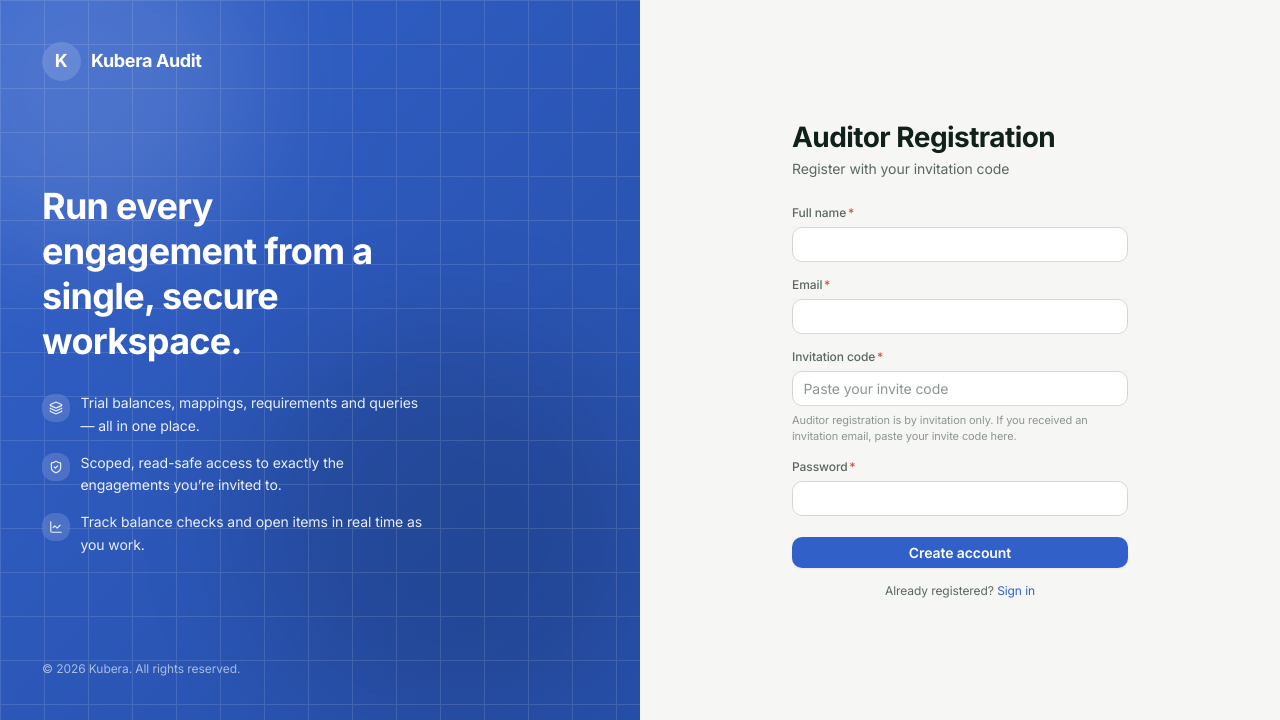
AuditorRegister Rate Limit › displays fallback message if Retry-After is missing on 429
This screenshot has width=1280, height=720.
Type "Auditor" into the field labelled "Full name*".
click(960, 244); type("Auditor")  # box [792,227,1128,262]
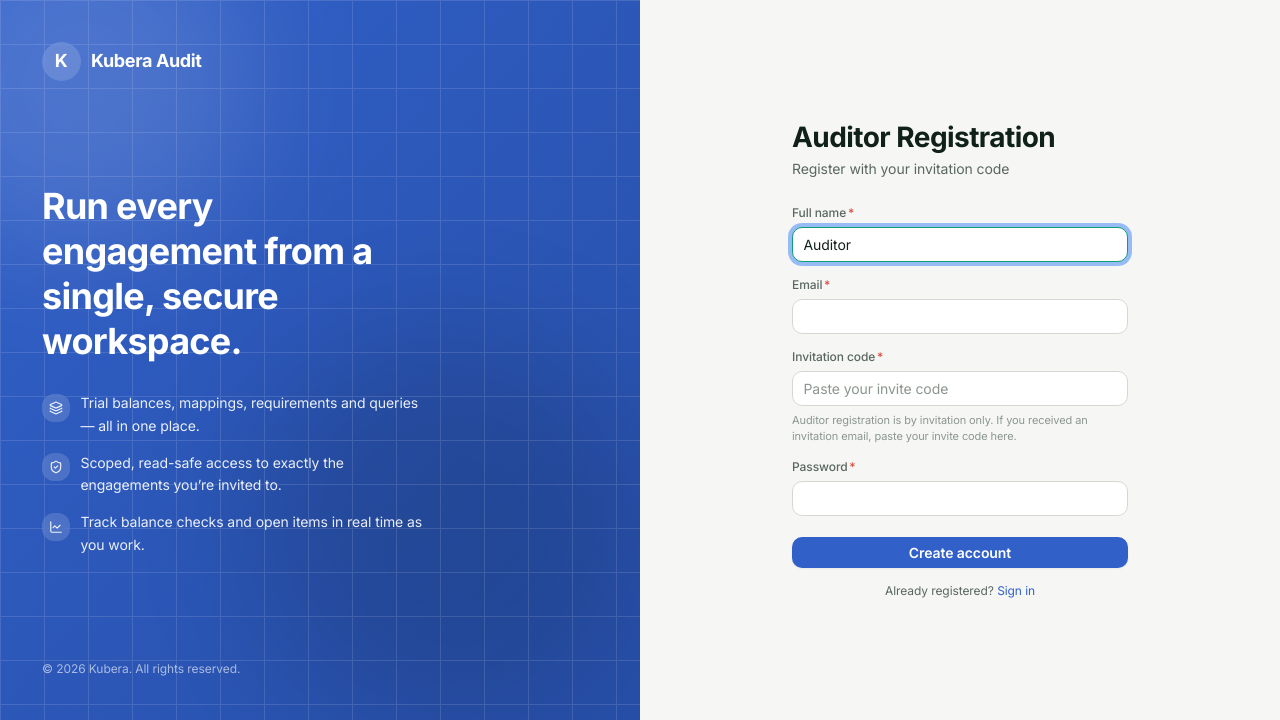
Type "auditor@test.test" into the field labelled "Email*".
click(960, 316); type("auditor@test.test")  # box [792,299,1128,334]
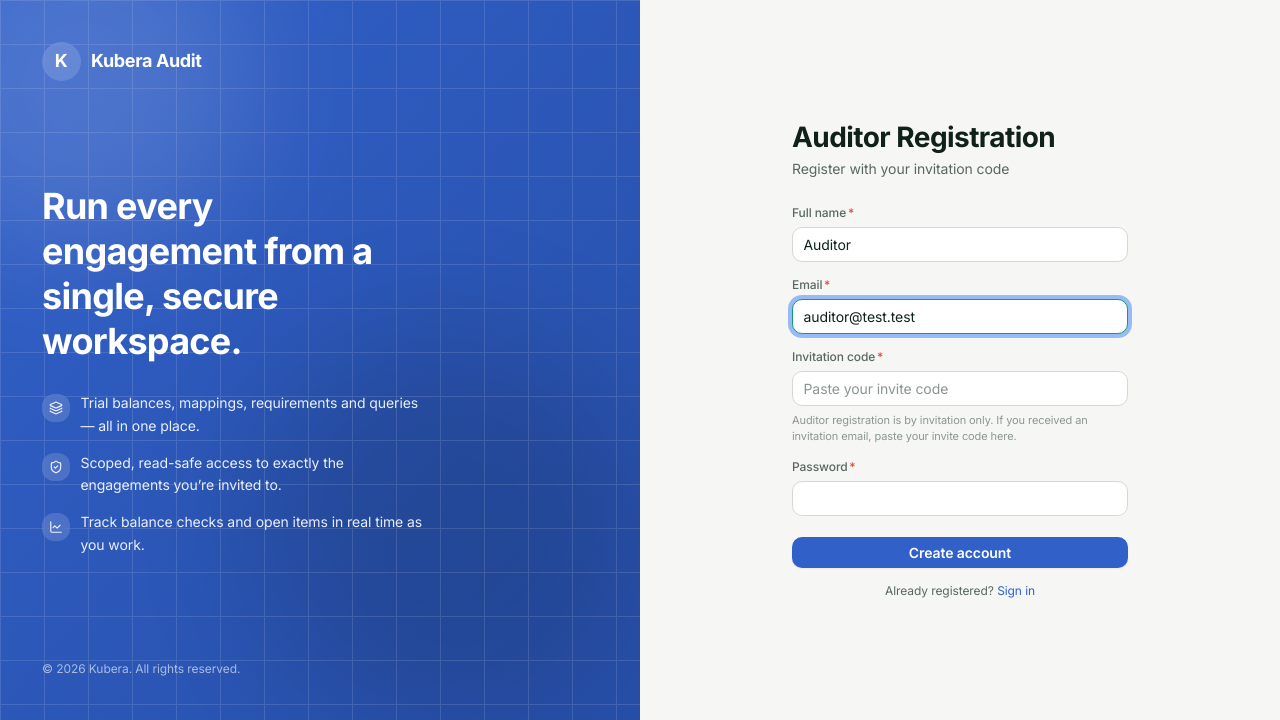
Type "token123" into the field labelled "Invitation code*".
click(960, 389); type("token123")  # box [792,371,1128,406]
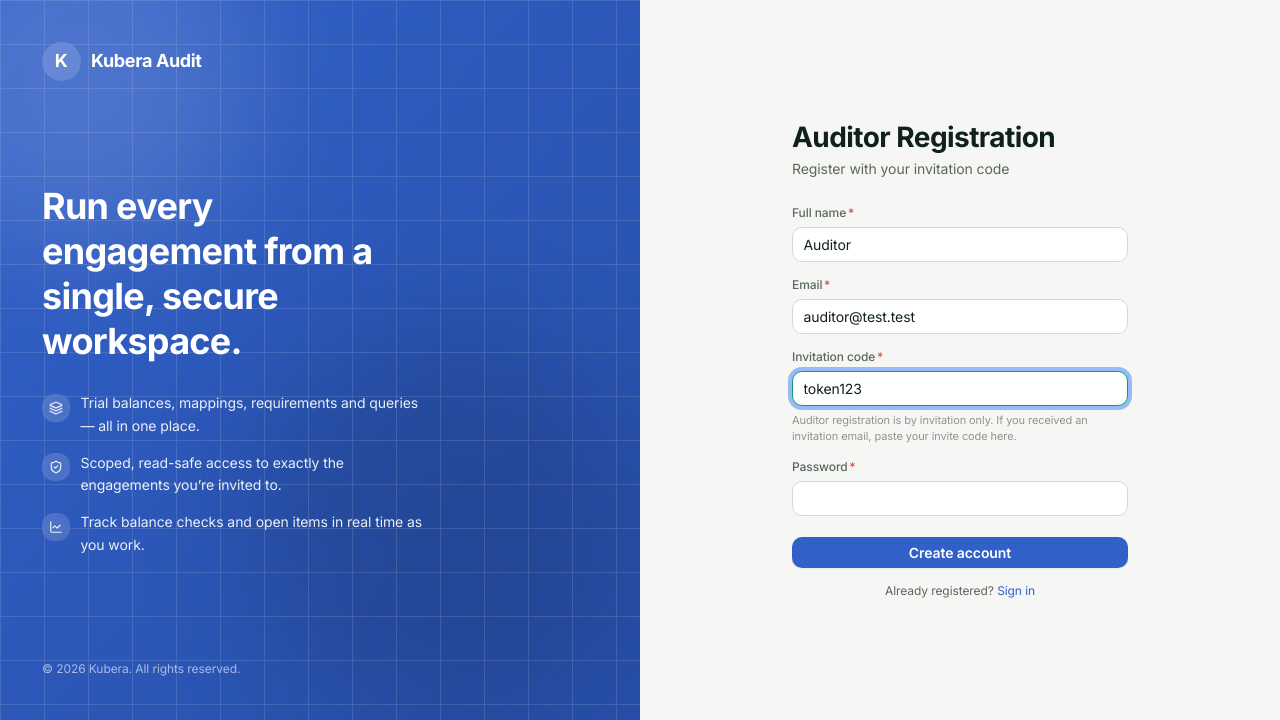
Type "Valid1!Pass" into the password field labelled "Password*".
click(960, 498); type("Valid1!Pass")  # box [792,481,1128,516]
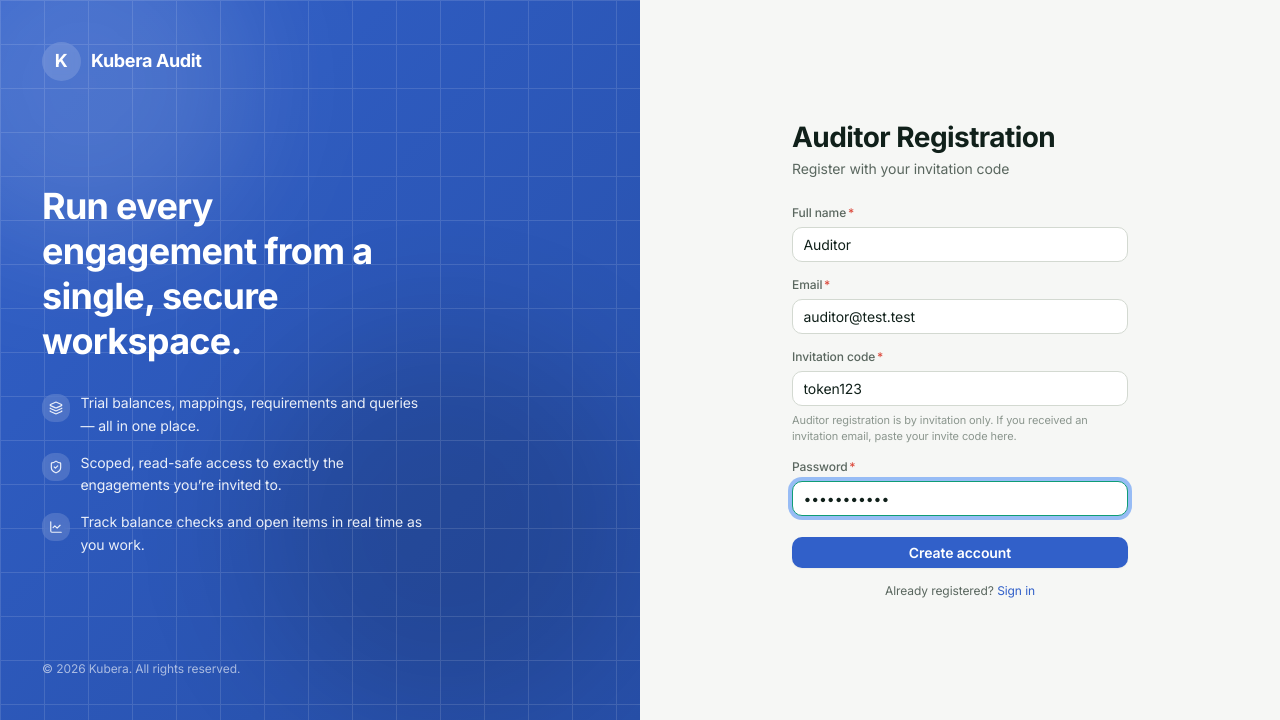
Click the button "Create account".
click(960, 553)  # box [792,537,1128,568]
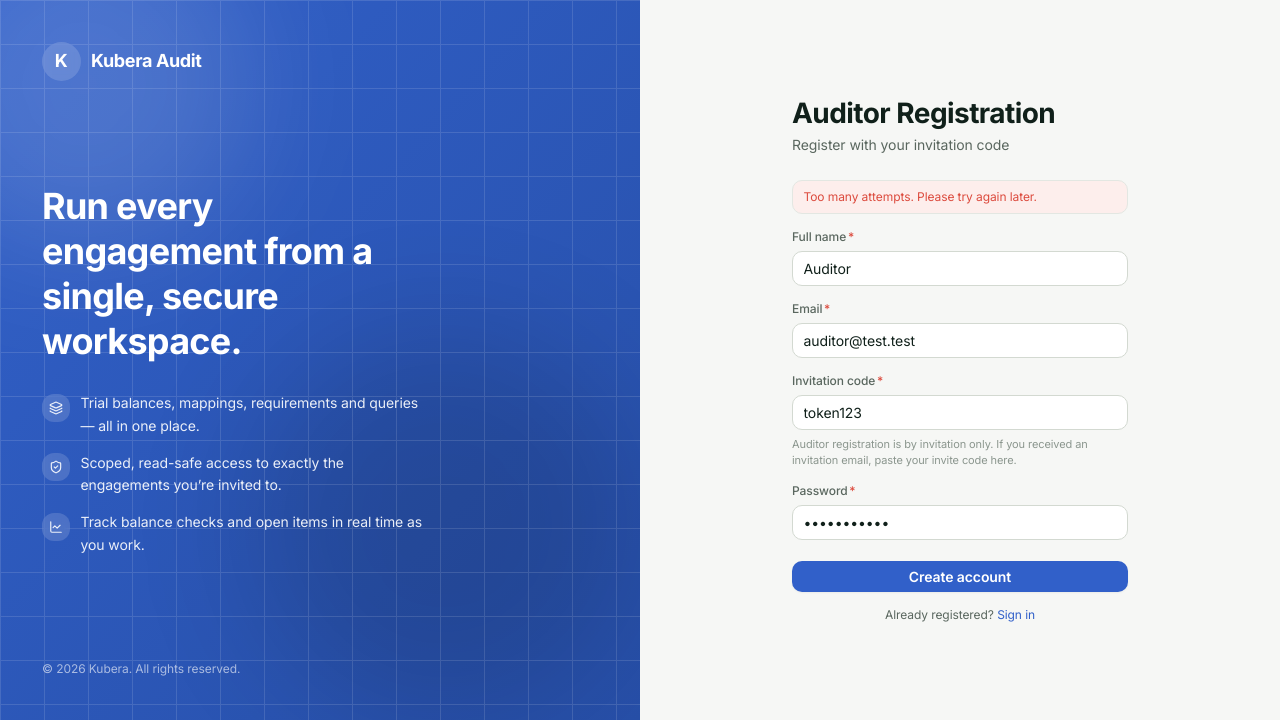
Check: the button "Too many attempts. Please try again later." is shown, box [792,180,1128,214]
